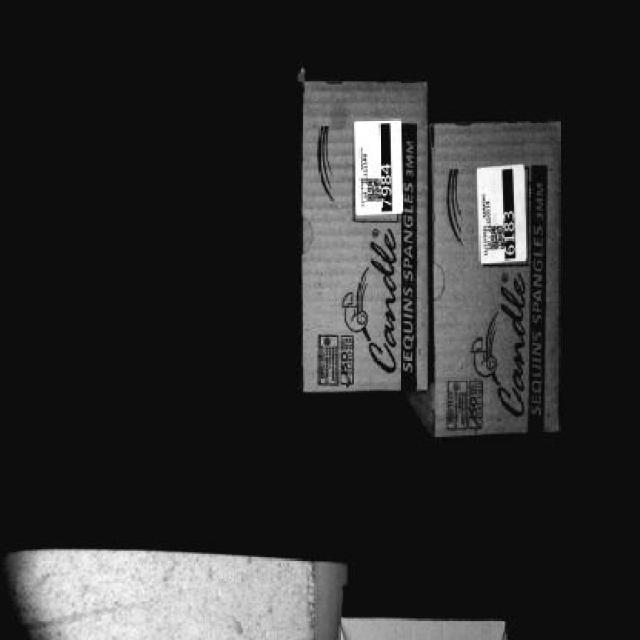cardboxes: (436, 123, 562, 437), (305, 77, 429, 386)
